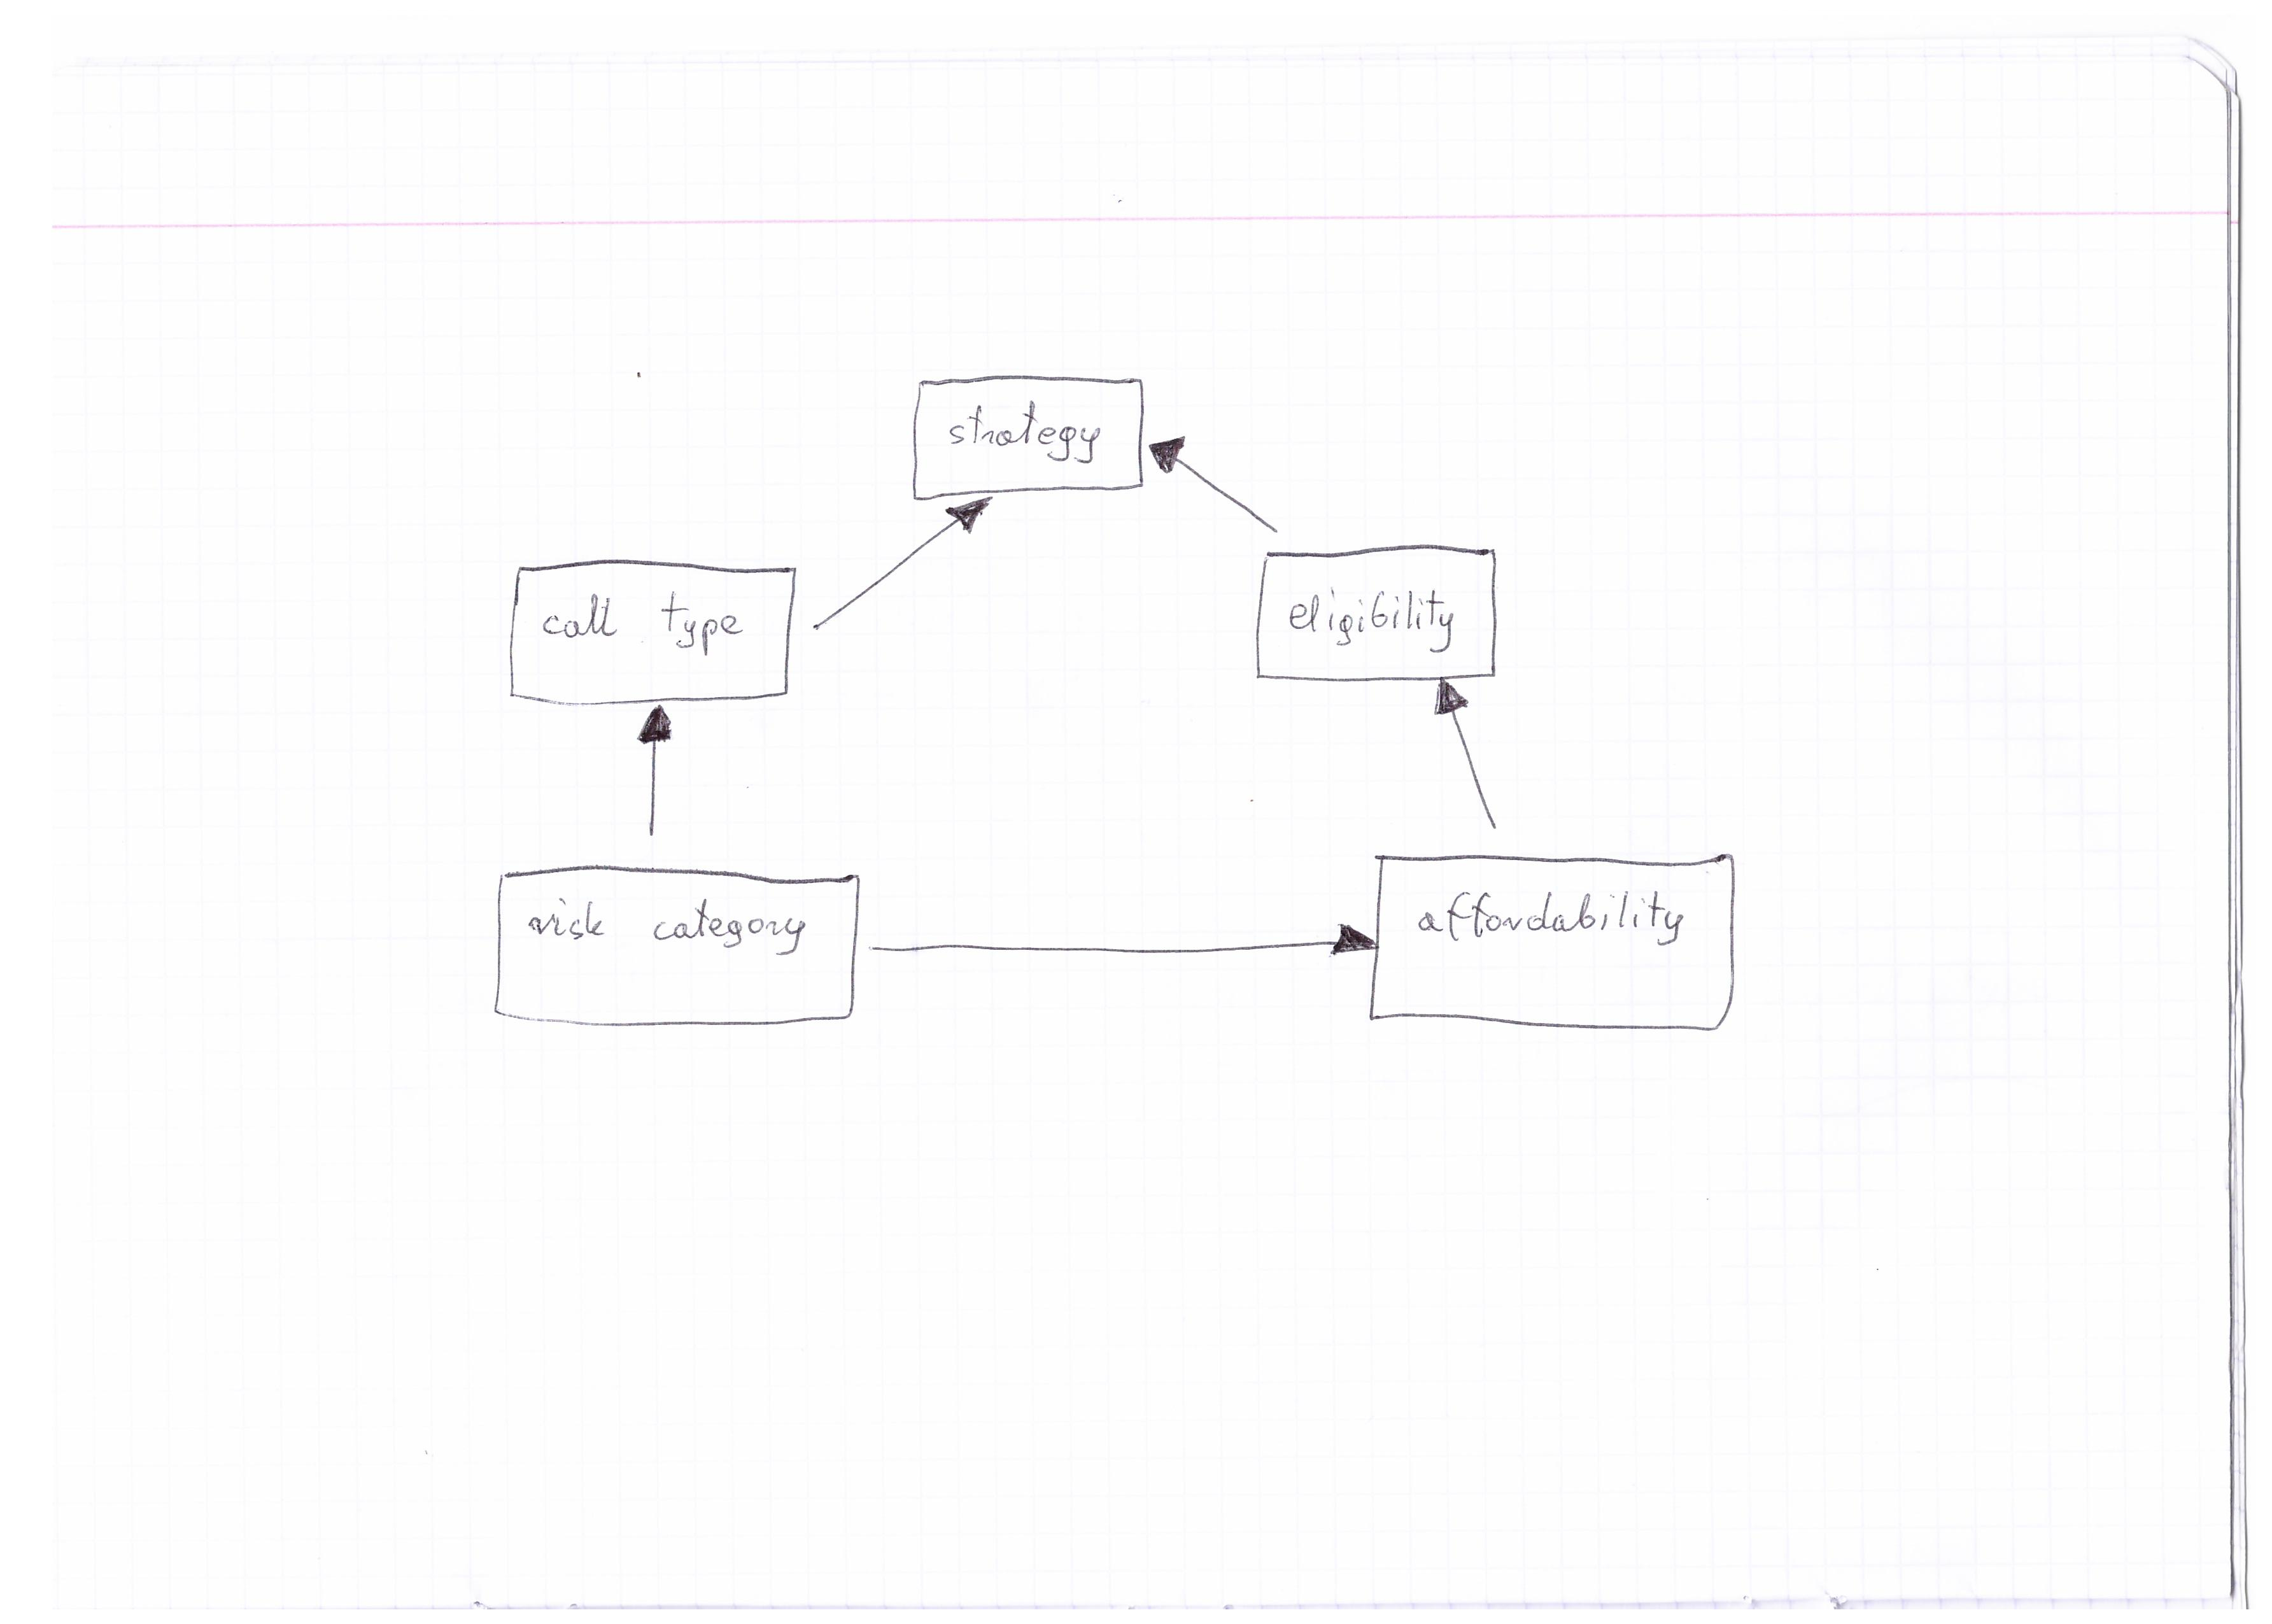arrow_information_requirement: (863, 898, 1376, 979), (803, 494, 1002, 657), (1144, 418, 1295, 541), (1415, 677, 1516, 838), (622, 703, 682, 851)
node_decision: (1369, 847, 1743, 1039), (487, 866, 868, 1046), (499, 550, 808, 712), (1246, 543, 1502, 684), (907, 369, 1144, 503)
text: (517, 884, 828, 961), (1406, 881, 1694, 961), (529, 575, 754, 661), (1276, 576, 1465, 661), (937, 395, 1114, 476)
